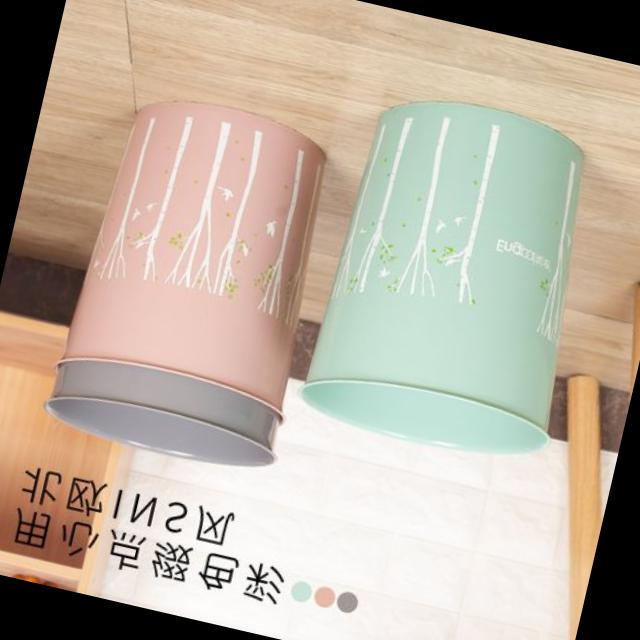dustbin: (292, 74, 622, 472), (53, 79, 354, 428)
